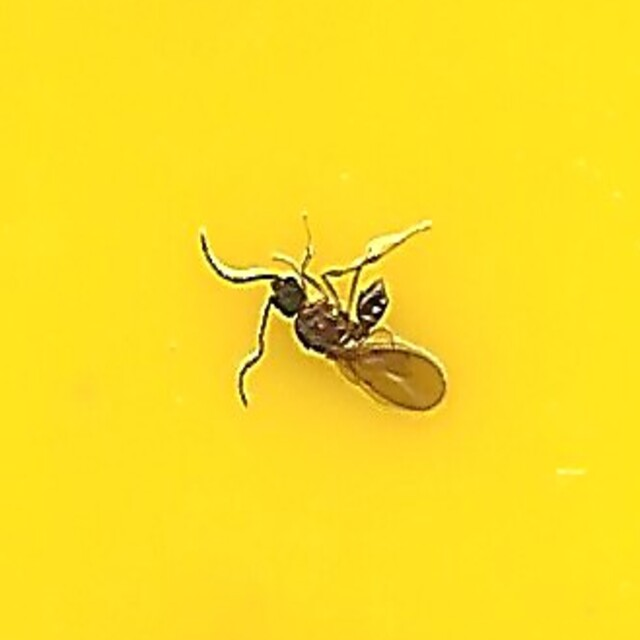Hymenoptera: (195, 227, 445, 413)
